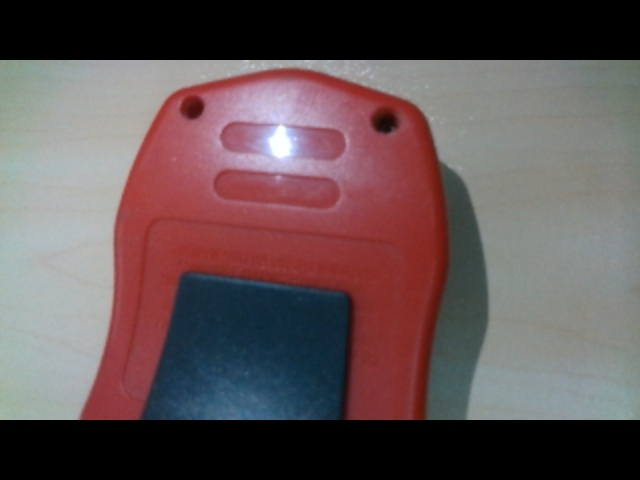Screw holes: (370, 104, 401, 135), (179, 92, 206, 122)
